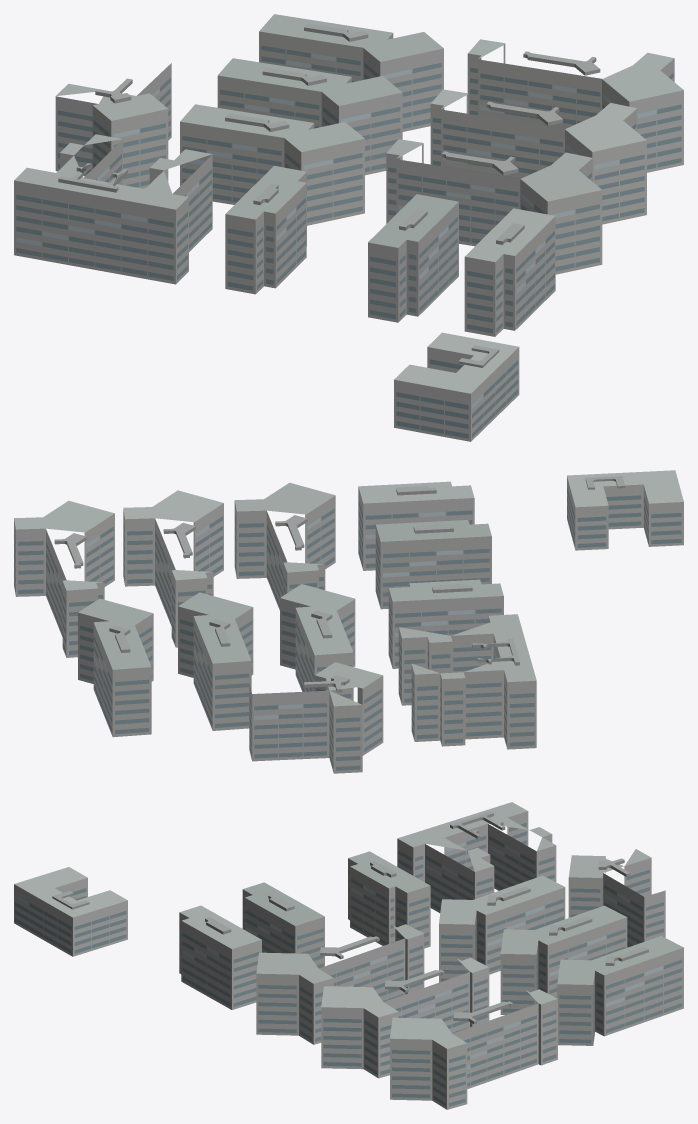
File: apt-a10028105.glb
3 views of the same model, one above another, from view 1: azimuth 30°, elevation 25°; view 2: azimuth 150°, elevation 25°; view 3: azimuth 270°, elevation 25° (orthographic). The views are drawn at different scales.
Parts seen in each view (by area): view 1: apt-a10028105; view 2: apt-a10028105; view 3: apt-a10028105.
Part boxes in pixels (x1,y1,x2,y2): apt-a10028105: (14, 14, 683, 441); apt-a10028105: (14, 470, 683, 773); apt-a10028105: (14, 802, 683, 1109).
Size of the model in its own units: 232 by 28 by 266.
